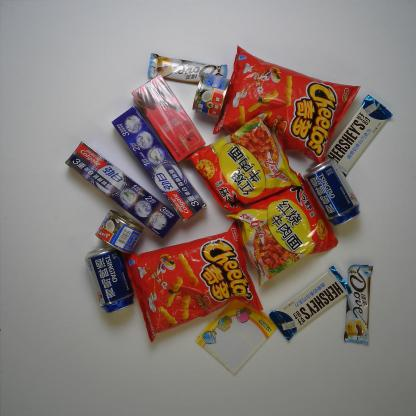Alcohol: (305, 158, 361, 228), (87, 246, 135, 316)
Canned Food: (96, 210, 142, 252), (193, 74, 232, 117)
Chocolate: (269, 266, 353, 342), (326, 93, 394, 177), (343, 262, 377, 345), (147, 52, 228, 86)
Instant Drink: (131, 74, 205, 163)
Instant Noodles: (226, 173, 338, 287), (184, 111, 304, 217)
Personal Hygiene: (65, 140, 179, 238), (112, 107, 204, 220)
Puffed Food: (125, 219, 266, 344), (214, 46, 362, 165)
Stationery: (195, 292, 280, 376)
